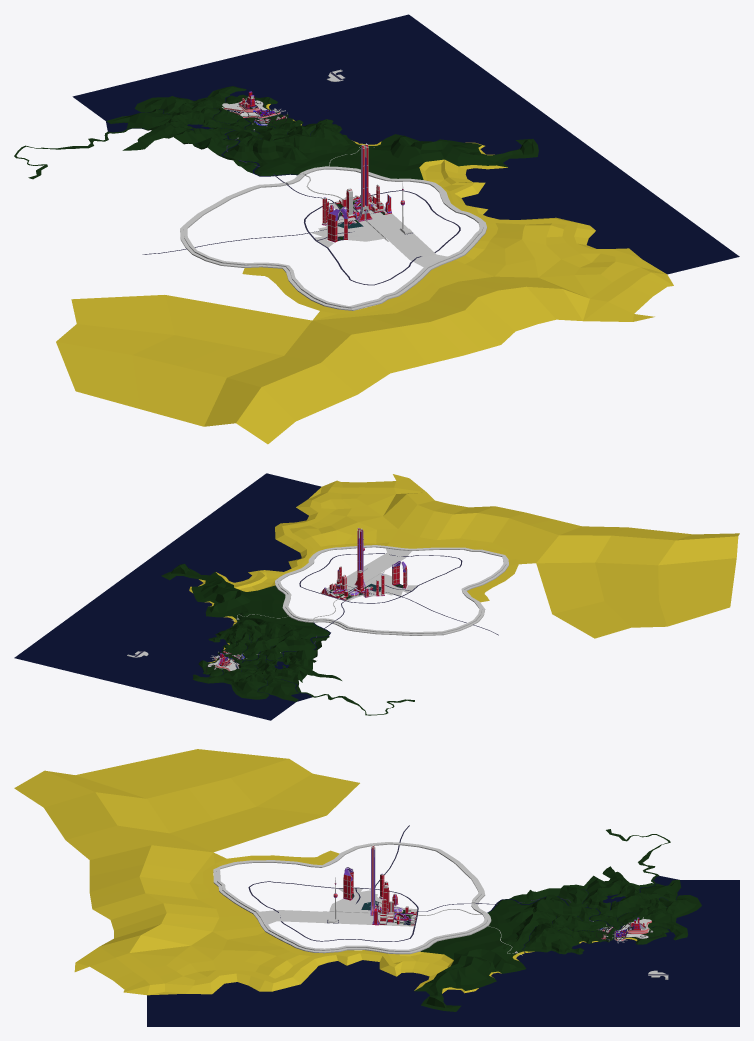
The model's file is city.obj.
The picture shows the model from 3 angles, top to bottom: view 1: azimuth 30°, elevation 25°; view 2: azimuth 150°, elevation 25°; view 3: azimuth 270°, elevation 25°; orthographic projection. The views are drawn at different scales.
Parts seen in each view (by area): view 1: city_Cube, Plane.013_Plane.009, Plane.014_Plane.011, Plane.004, city.002_Cube.008, Plane.005, Plane.001; view 2: city_Cube, Plane.013_Plane.009, Plane.004, Plane.014_Plane.011, Plane.005, city.002_Cube.008; view 3: city_Cube, Plane.013_Plane.009, Plane.014_Plane.011, city.002_Cube.008, Plane.004, Plane.005.
Part boxes in pixels (x1,y1,x2,y2): city_Cube: (14,14,739,444); Plane.013_Plane.009: (180,166,487,310); Plane.014_Plane.011: (367,213,446,267); Plane.004: (142,181,383,254); city.002_Cube.008: (217,91,285,120); Plane.005: (304,184,460,285); Plane.001: (353,144,388,241); city_Cube: (14,473,739,720); Plane.013_Plane.009: (275,545,508,635); Plane.004: (331,573,498,635); Plane.014_Plane.011: (346,548,411,587); Plane.005: (299,553,462,603); city.002_Cube.008: (198,653,249,676); city_Cube: (14,749,739,1026); Plane.013_Plane.009: (213,842,491,954); Plane.014_Plane.011: (260,910,380,924); city.002_Cube.008: (614,914,669,944); Plane.004: (329,825,589,920); Plane.005: (248,881,418,941).
Bounding box in the file's own units: 15172 × 1932 × 16747.
